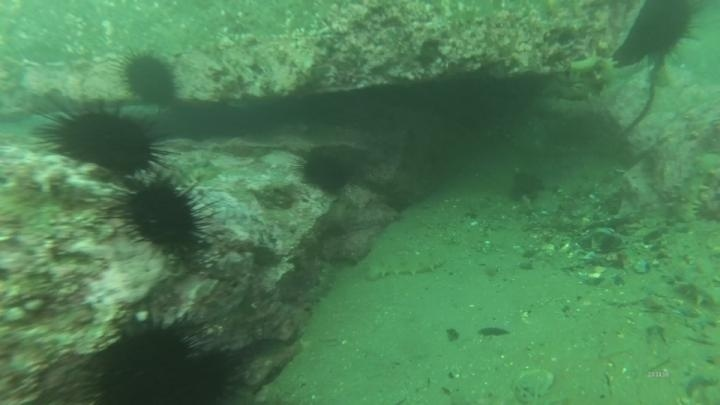echinus: (80, 310, 242, 404), (39, 101, 165, 179), (109, 172, 213, 260), (614, 1, 699, 67), (117, 48, 181, 109), (296, 145, 355, 197), (505, 168, 546, 205)
holothurian: (666, 151, 719, 228), (361, 247, 447, 283), (665, 258, 720, 310), (566, 50, 625, 93), (299, 259, 339, 310)
